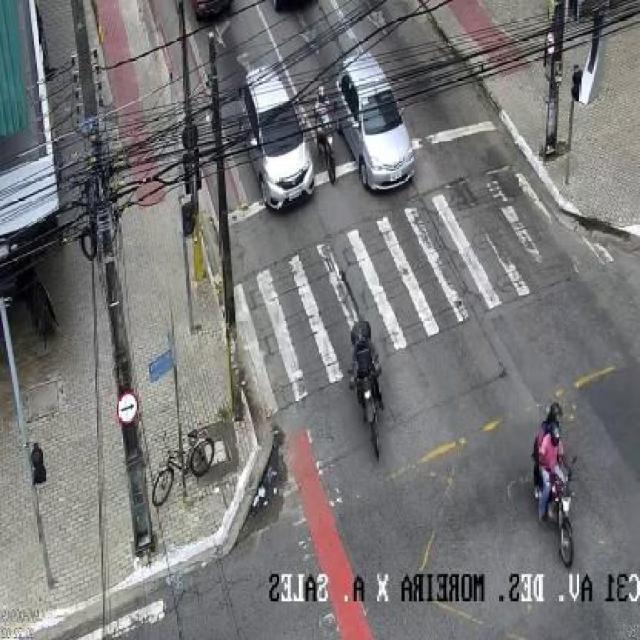Car: (240, 70, 315, 214), (339, 56, 414, 192)
Cycle: (530, 398, 587, 566), (350, 312, 392, 454), (314, 86, 340, 186)
